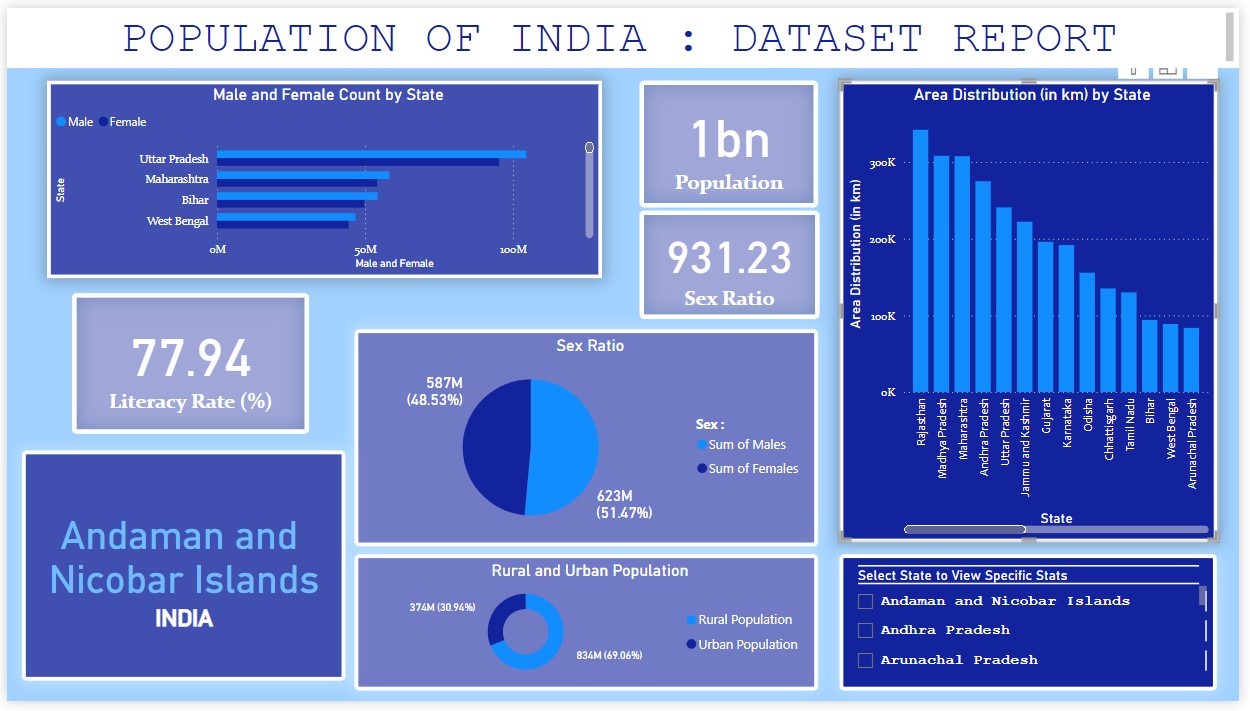

The dashboard page shown, as its layout file describes it:
{"tool":"powerbi","page":{"name":"POPULATION OF INDIA : DATASET ANALYSIS","canvas":[1280,720],"ordinal":0},"visuals":[{"type":"clusteredBarChart","title":"Male and Female Count by State","fields":{"Category":["population.State"],"Y":["Sum(population.Males)","Sum(population.Females)"]},"box":[42,75.4,576.8,205.8],"z":0},{"type":"clusteredColumnChart","fields":{"Category":["population.State"],"Y":["Sum(population.Area (km*km))"]},"box":[865.2,75.4,392.8,479.7],"z":1000},{"type":"card","fields":{"Values":["Sum(population.Population)"]},"box":[656.5,75.4,185.5,131.9],"z":2000},{"type":"card","fields":{"Values":["Avg(population.Literacy Rate (%))"]},"box":[68.1,295.7,246.4,146.4],"z":3000},{"type":"pieChart","title":"Sex Ratio","fields":{"Y":["Sum(population.Males)","Sum(population.Females)"]},"box":[361,333.8,481.8,226],"z":4000},{"type":"donutChart","title":"Rural and Urban Population","fields":{"Y":["Sum(population.Rural Population)","Sum(population.Urban Population)"]},"box":[361.2,567.5,481.2,141.2],"z":5000},{"type":"card","fields":{"Values":["Avg(population.Sex Ratio)"]},"box":[656.5,210.1,187,113],"z":6000},{"type":"slicer","fields":{"Values":["population.State"]},"box":[865.4,566.9,392.3,141.5],"z":7000},{"type":"card","fields":{"Values":["Min(population.State)"]},"box":[15.6,459.7,336.4,239],"z":8000},{"type":"textbox","box":[0,0,1279.7,62.3],"z":9000}]}

Visuals, with their boxes in screenshot pixels (x1, y1, x2, y2), scaled from the page's 1280x720 canvas onto the 1250x711 screenshot:
"Male and Female Count by State" clusteredBarChart: 41/74/604/278
clusteredColumnChart - population.State x Sum(population.Area (km*km)): 845/74/1229/548
card - Sum(population.Population): 641/74/822/205
card - Avg(population.Literacy Rate (%)): 67/292/307/437
"Sex Ratio" pieChart: 353/330/823/553
"Rural and Urban Population" donutChart: 353/560/823/700
card - Avg(population.Sex Ratio): 641/207/824/319
slicer - population.State: 845/560/1228/700
card - Min(population.State): 15/454/344/690
textbox: 0/0/1249/62
